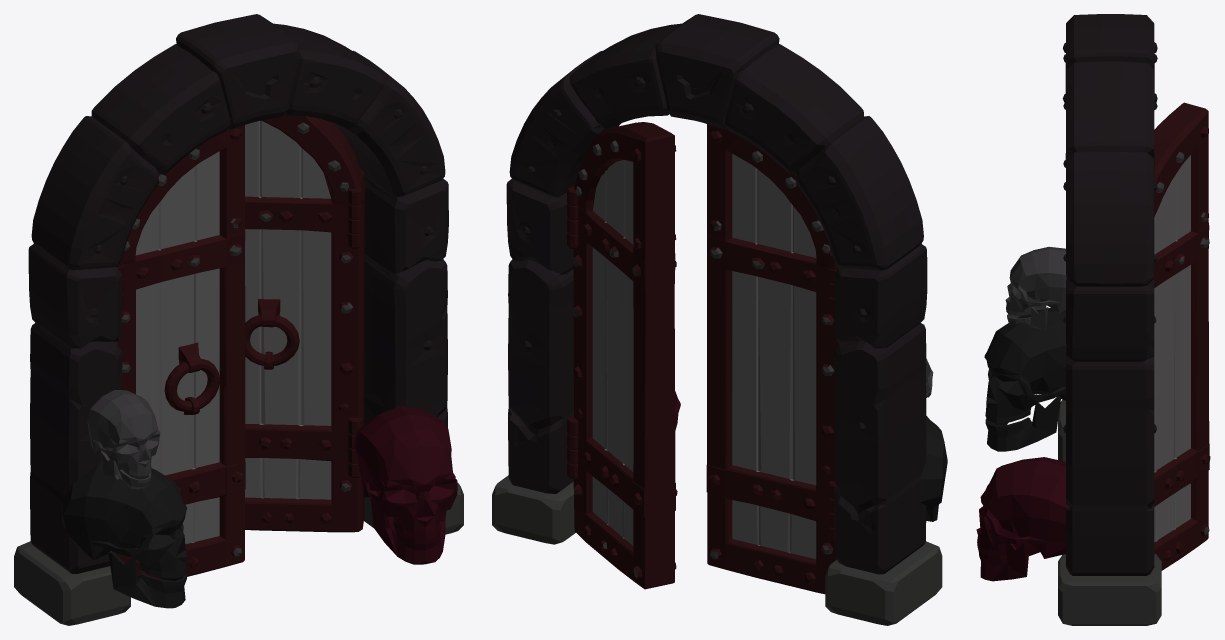
File: horror_door2.glb
3 views of the same model, side by side, from view 1: azimuth 30°, elevation 25°; view 2: azimuth 150°, elevation 25°; view 3: azimuth 270°, elevation 25° (orthographic). The views are drawn at different scales.
Parts seen in each view (by area): view 1: goldstone-material.001, metal-material.001, wood-material.001, Cube, Cube_0.002, stone-material.001, Cube_0.001, Cube.001_0.002, Cube.001, Cube.001_0.001; view 2: goldstone-material.001, metal-material.001, wood-material.001, stone-material.001, Cube_0.002; view 3: goldstone-material.001, metal-material.001, wood-material.001, Cube, Cube_0.002, stone-material.001, Cube_0.001, Cube.001_0.002, Cube.001, Cube.001_0.001.
Boxes of the visible parts, bbox=[...] form: goldstone-material.001: bbox=[28, 14, 448, 573]; metal-material.001: bbox=[116, 114, 365, 579]; wood-material.001: bbox=[135, 120, 331, 548]; Cube: bbox=[354, 405, 457, 539]; Cube_0.002: bbox=[61, 461, 187, 578]; stone-material.001: bbox=[14, 122, 463, 625]; Cube_0.001: bbox=[87, 390, 160, 476]; Cube.001_0.002: bbox=[108, 550, 186, 608]; Cube.001: bbox=[370, 490, 446, 564]; Cube.001_0.001: bbox=[100, 450, 151, 489]; goldstone-material.001: bbox=[506, 14, 927, 574]; metal-material.001: bbox=[567, 122, 839, 594]; wood-material.001: bbox=[592, 154, 816, 559]; stone-material.001: bbox=[492, 140, 942, 625]; Cube_0.002: bbox=[919, 416, 947, 508]; goldstone-material.001: bbox=[1062, 14, 1157, 575]; metal-material.001: bbox=[1153, 102, 1210, 570]; wood-material.001: bbox=[1154, 155, 1190, 541]; Cube: bbox=[976, 457, 1069, 558]; Cube_0.002: bbox=[984, 308, 1065, 423]; stone-material.001: bbox=[1058, 152, 1209, 625]; Cube_0.001: bbox=[1005, 246, 1066, 315]; Cube.001_0.002: bbox=[985, 396, 1061, 451]; Cube.001: bbox=[978, 543, 1039, 581]; Cube.001_0.001: bbox=[1007, 301, 1048, 330].
Size of the model in its own units: 1.99 by 2.5 by 1.05.
